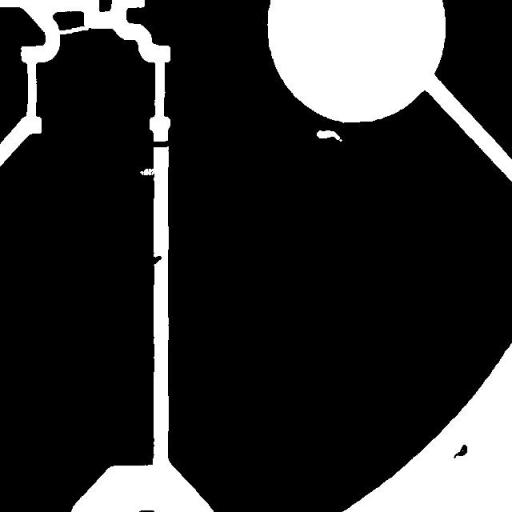copper: (446, 436, 474, 466)
mousebite: (132, 161, 162, 182)
open: (50, 18, 96, 42)
pin-hole: (308, 122, 350, 149)
short: (140, 132, 179, 156)
spur: (140, 248, 169, 273)
